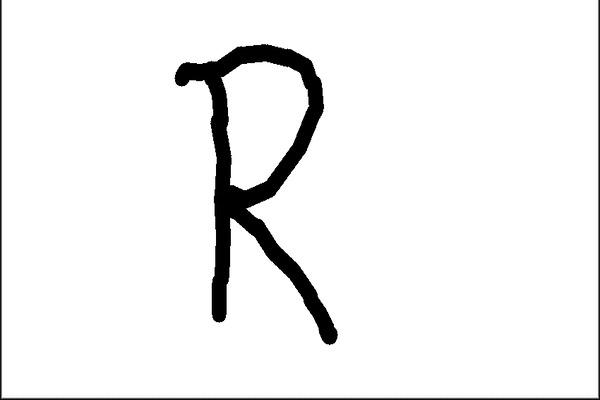R: (166, 26, 370, 354)
